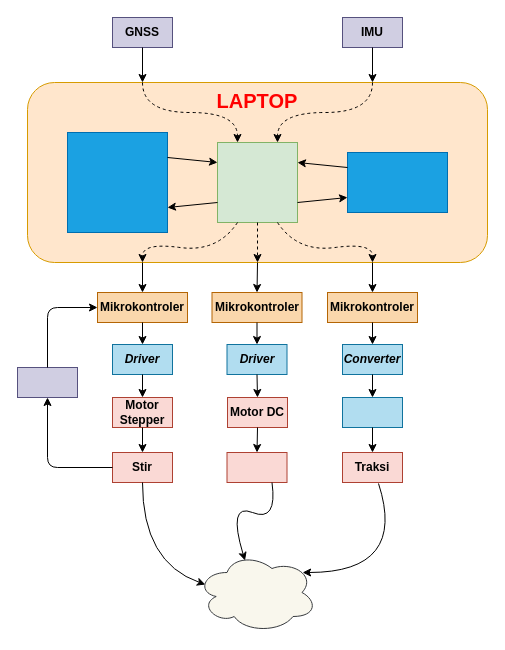
Image size: 505x650. Some labels were removed from this diagram. Here are the shapes that lost their labels. From the top down, the centre of each, then its label:
At point (117, 182): "Program Estimasi Variabel Keadaan".
At point (257, 182): "ROS".
At point (397, 182): "Program Kontrol".
At point (47, 382): "Encoder".
At point (372, 412): "Control Board".
At point (256, 467): "Rem".
At point (256, 592): "Mobil Golf".
